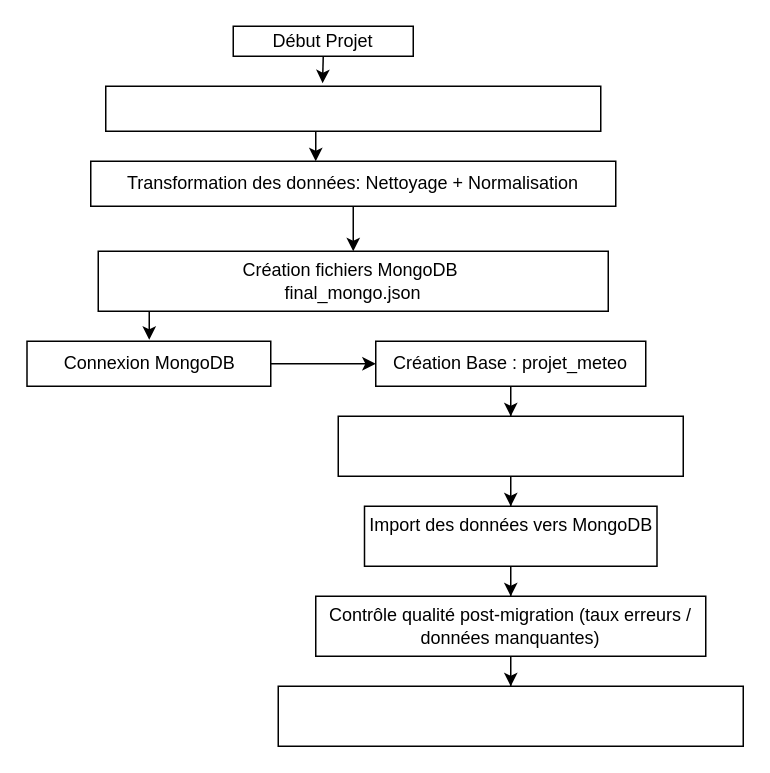
Image size: 770x773. Some labels were removed from this diagram. The shapes that lost their labels are listed below. From the top down, each one's centre as x and y in pixels, then its label:
the point at 352,108: Collecte des données JSON : 3 fichiers météo
the point at 510,445: Création Collections: stations_meteo
the point at 510,715: Tests CRUD ( Create / Read / Update / Delete)
